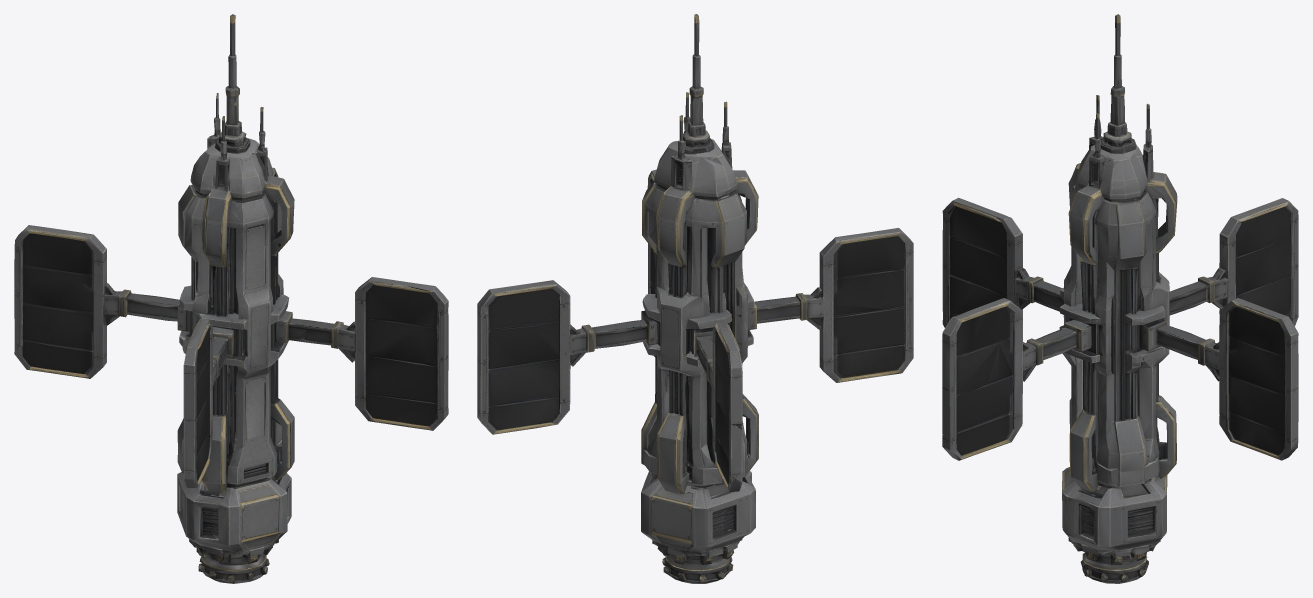
Rendered from shared_system_claim_beacon_lod1.glb.
3 renders of one model, left to right at view 1: azimuth 30°, elevation 25°; view 2: azimuth 150°, elevation 25°; view 3: azimuth 270°, elevation 25°, orthographic.
Parts seen in each view (by area): view 1: mesh_node; view 2: mesh_node; view 3: mesh_node.
Part boxes in pixels (x1,y1,x2,y2): mesh_node: (14,14,448,583); mesh_node: (477,14,913,583); mesh_node: (942,14,1298,583).
Size of the model in its own units: 9 by 18.25 by 10.47.
Materials: 1 (1 with a texture image).
